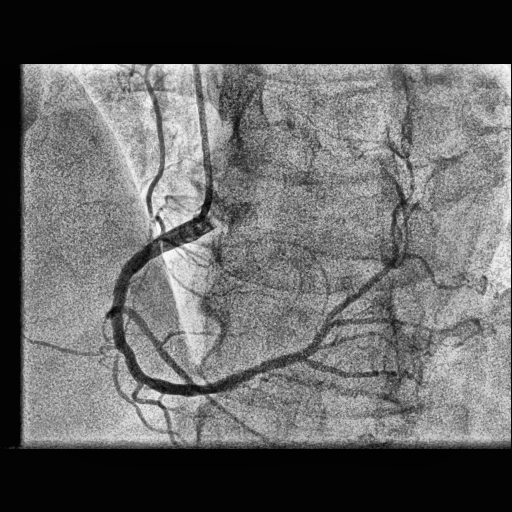pborca: (301, 254, 402, 357)
pda: (303, 358, 397, 378)
rca: (109, 218, 306, 397)
